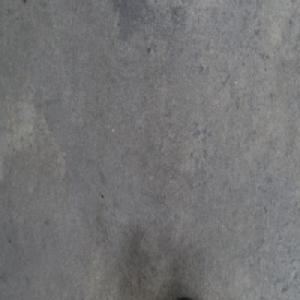AdjustableWrench: (171, 290, 202, 299)
